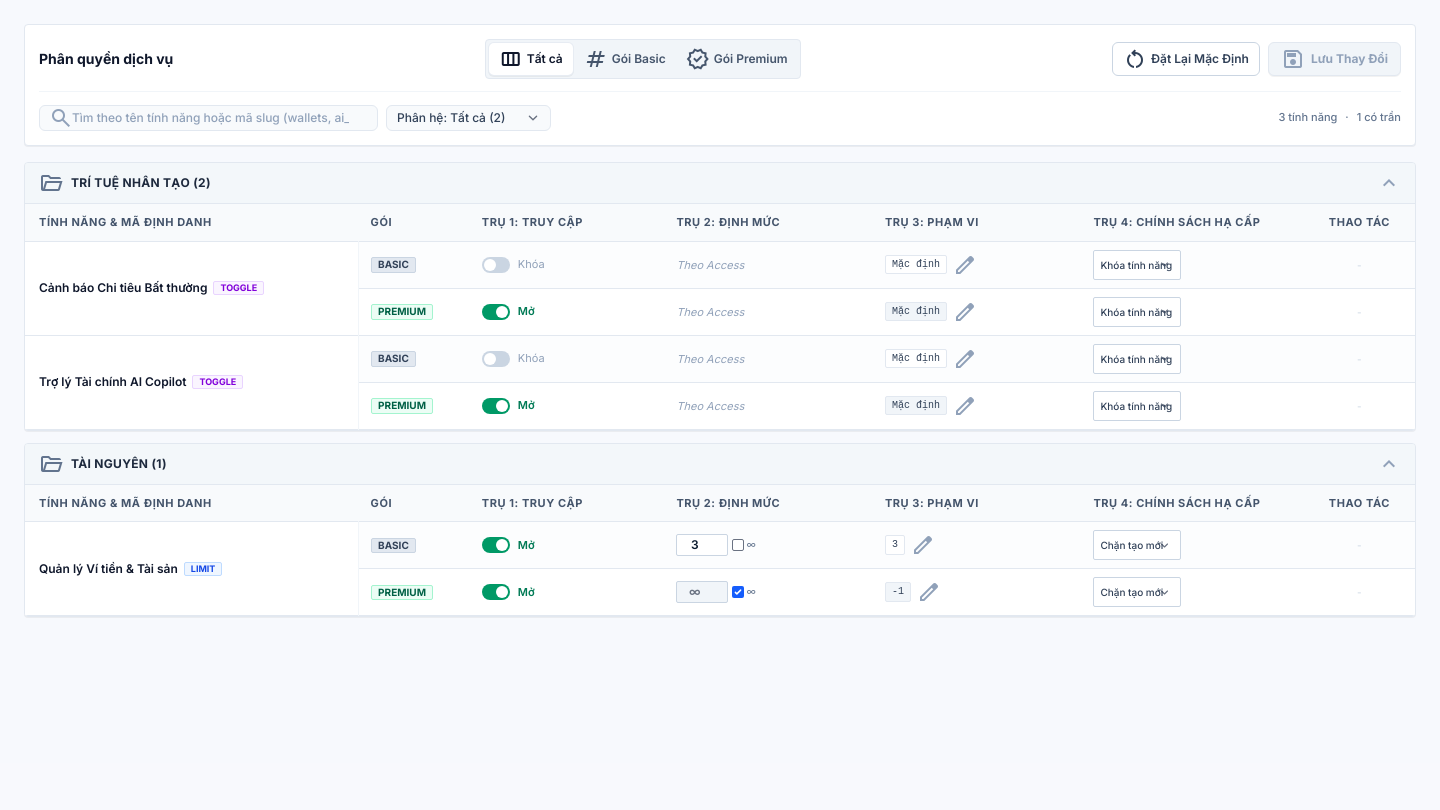
Test case: Phân Quyền Dịch Vụ — 2-Tier Testing Architecture (Rule 11) › ⚡ TẦNG 2: Kiểm thử hoạt động thực tế & Tác động hệ thống (System Impact Verification) › 2.1. Tác động tìm kiếm ngầm (Hidden Identifier Matching): Tìm kiếm bằng slug f.id vẫn lọc chính xác dù UI không hiển thị f.id
Expected: the text "Cảnh báo Chi tiêu Bất thường" is shown, [39, 280, 208, 296]
Nhập 'anomaly' (slug f.id) vào ô tìm kiếm
Replace the text in the field with test id "input-search-features" with "anomaly" at x=208, y=118, box [39, 105, 378, 131]
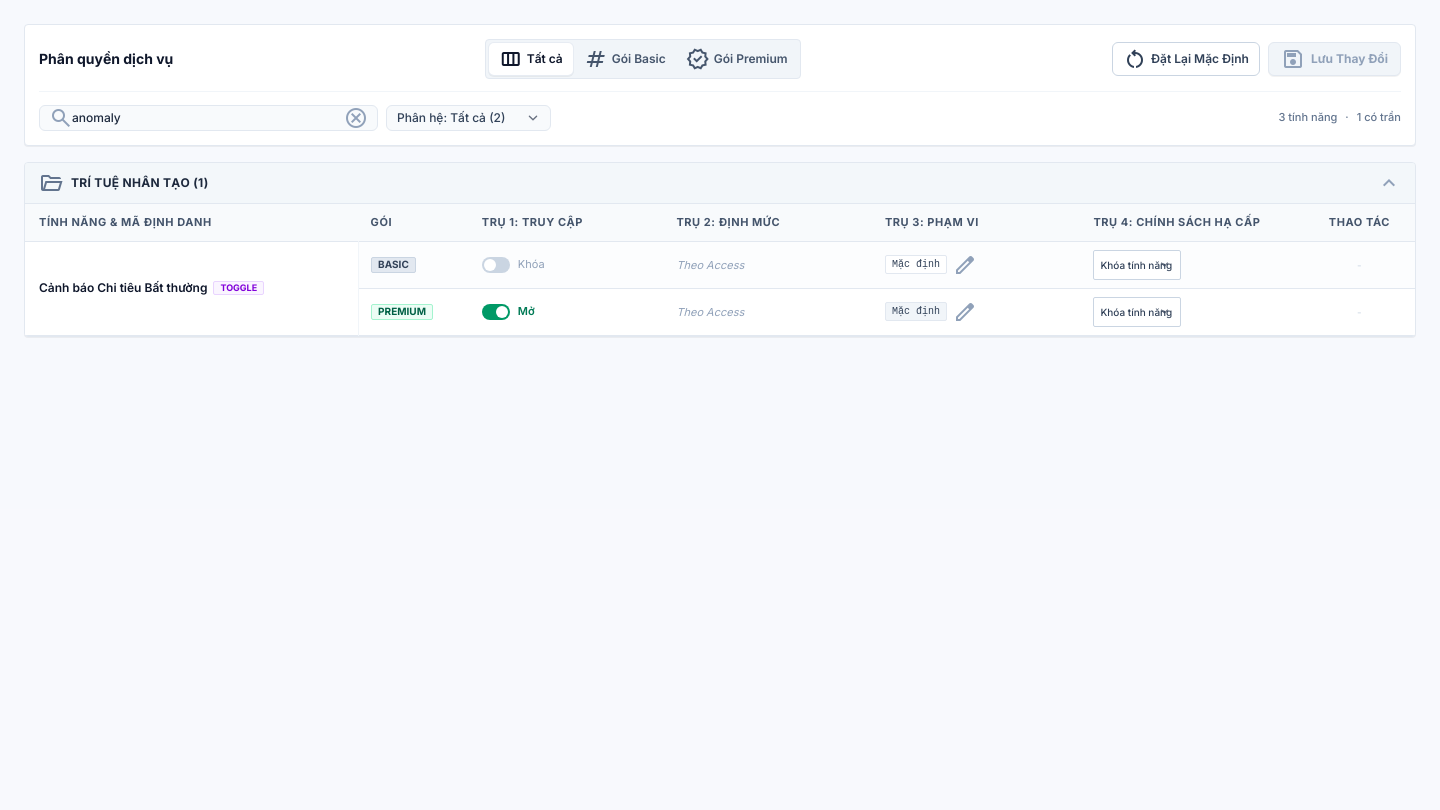
Expected: the text "Cảnh báo Chi tiêu Bất thường" is shown, [39, 280, 208, 296]
Result: the text "Quản lý Ví tiền & Tài sản" is gone
Result: the text "Trợ lý Tài chính AI Copilot" is gone
